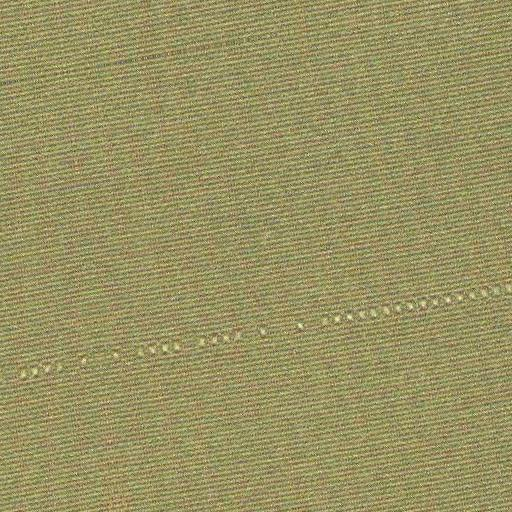slub: (13, 279, 512, 400)
